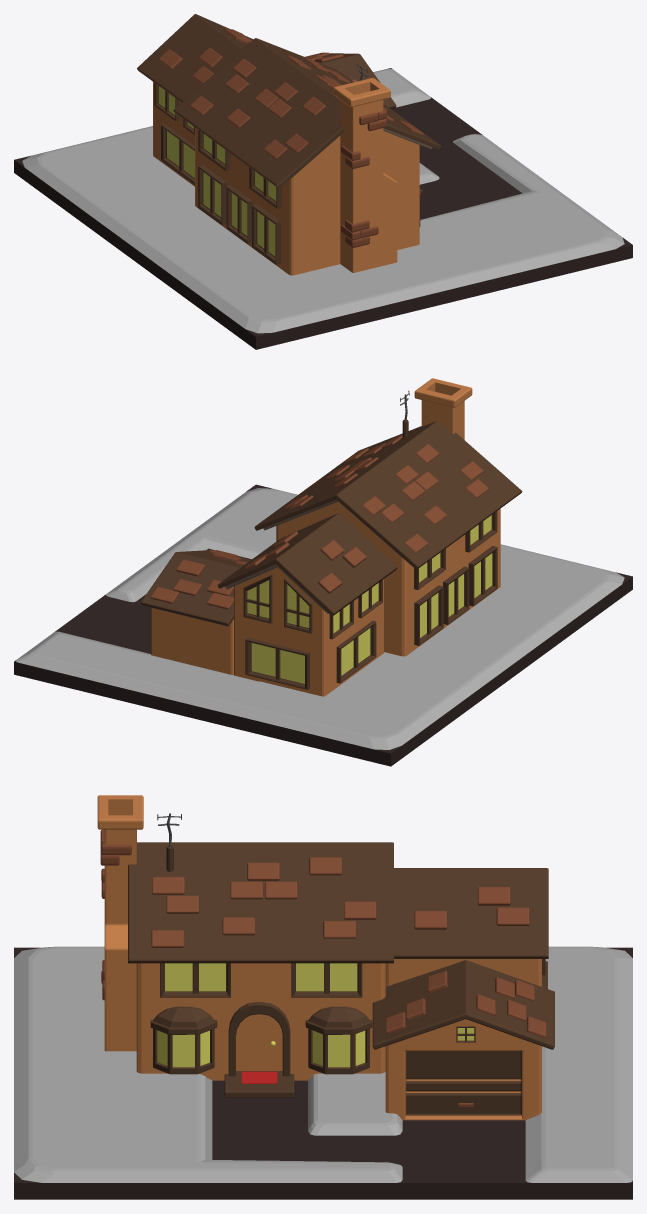
File: H1 Ground.fbx
3 renders of one model, top to bottom at view 1: azimuth 30°, elevation 25°; view 2: azimuth 150°, elevation 25°; view 3: azimuth 270°, elevation 25°, orthographic. The views are drawn at different scales.
Visible parts, largest first — view 1: polySurface48, polySurface9, polySurface47; view 2: polySurface48, polySurface9, polySurface47; view 3: polySurface48, polySurface9, polySurface47.
Part boxes in pixels (bbox=[...]): polySurface48: bbox=[14, 14, 632, 349]; polySurface9: bbox=[22, 68, 624, 333]; polySurface47: bbox=[158, 86, 276, 256]; polySurface48: bbox=[14, 378, 632, 766]; polySurface9: bbox=[16, 488, 624, 749]; polySurface47: bbox=[247, 515, 492, 683]; polySurface48: bbox=[14, 795, 632, 1199]; polySurface9: bbox=[14, 946, 632, 1182]; polySurface47: bbox=[157, 963, 474, 1067].
Bounding box in the file's own units: 774 × 390 × 860.
